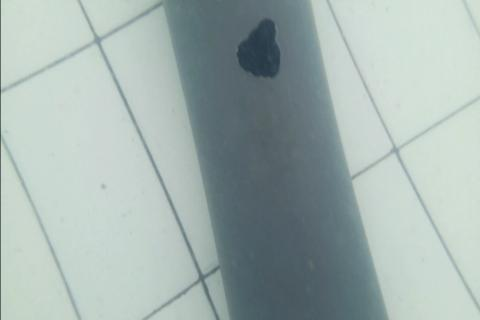kebocoran: (233, 15, 283, 82)
